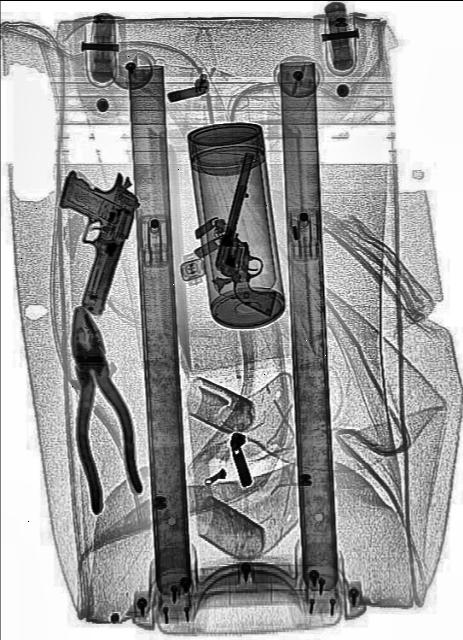Gun: (33, 150, 148, 318), (205, 149, 309, 319)
Pliers: (50, 298, 148, 516)
